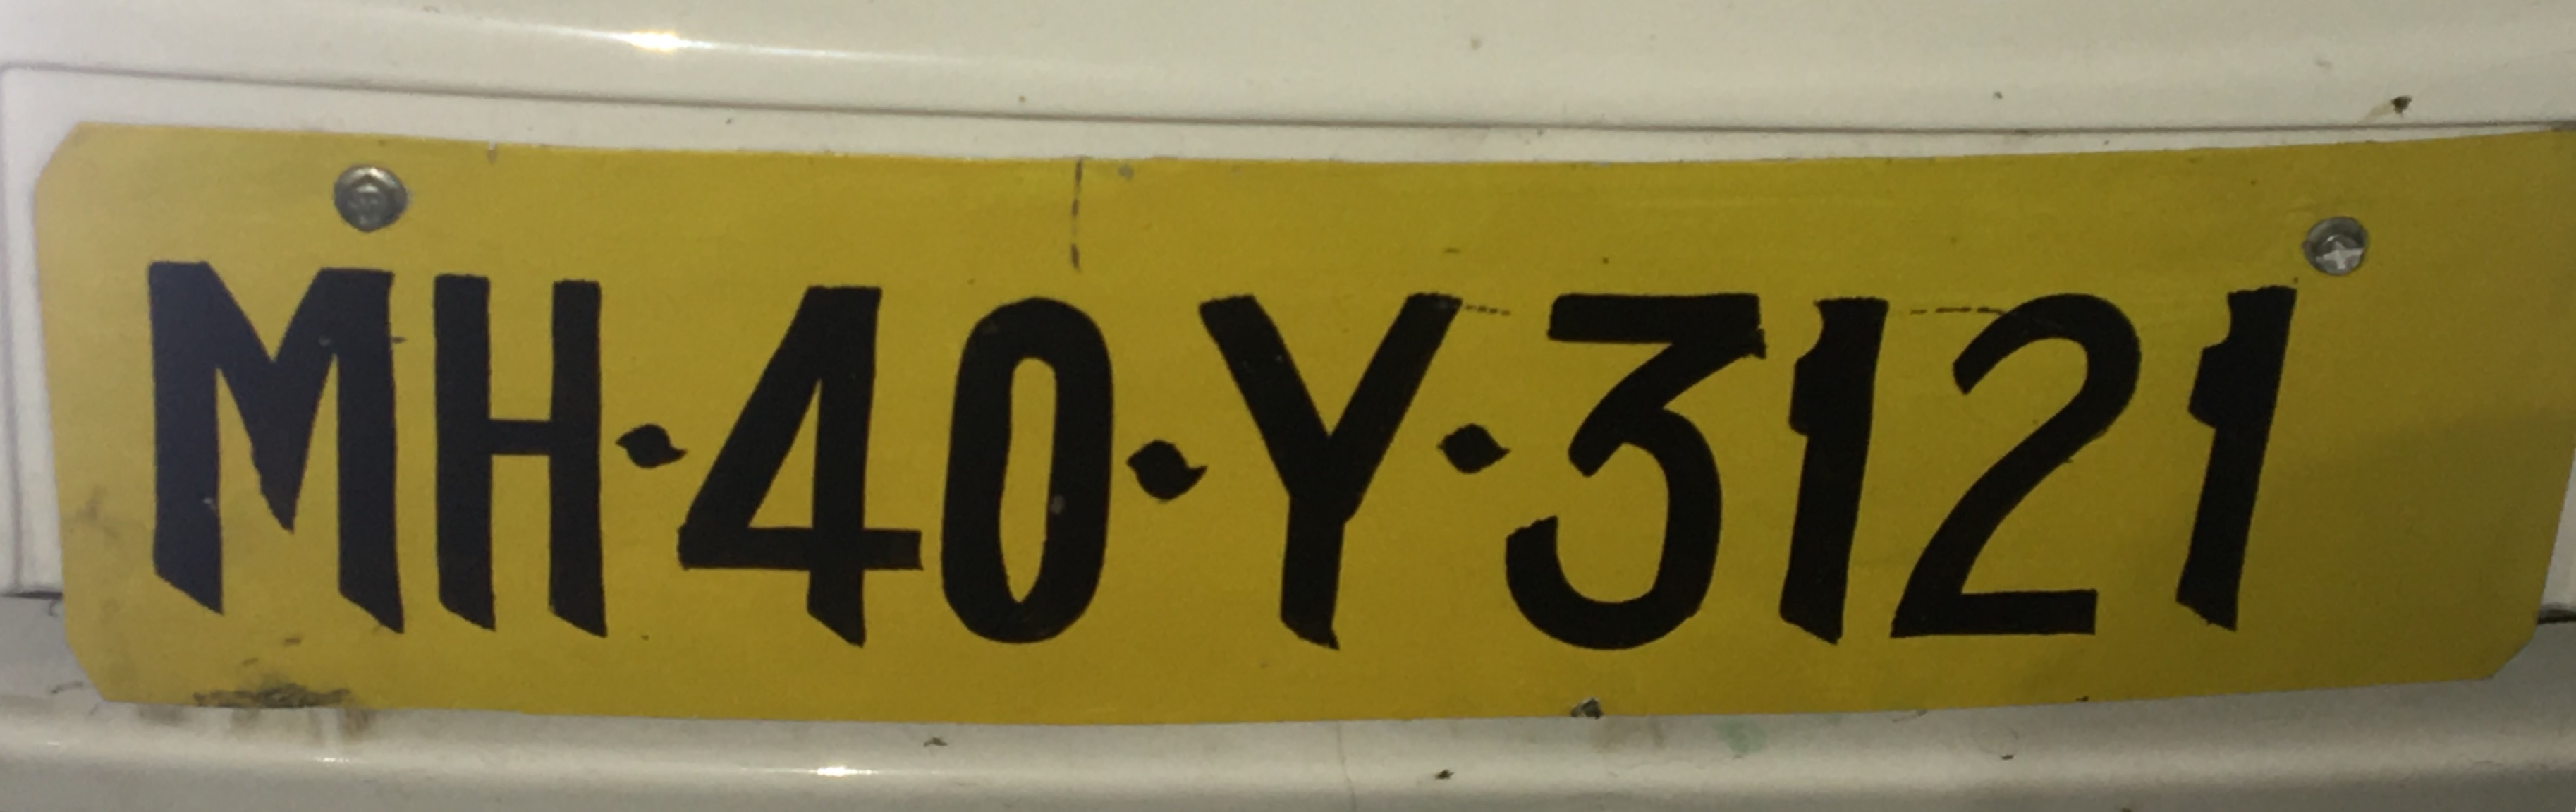numberplate: (30, 116, 2576, 717)
